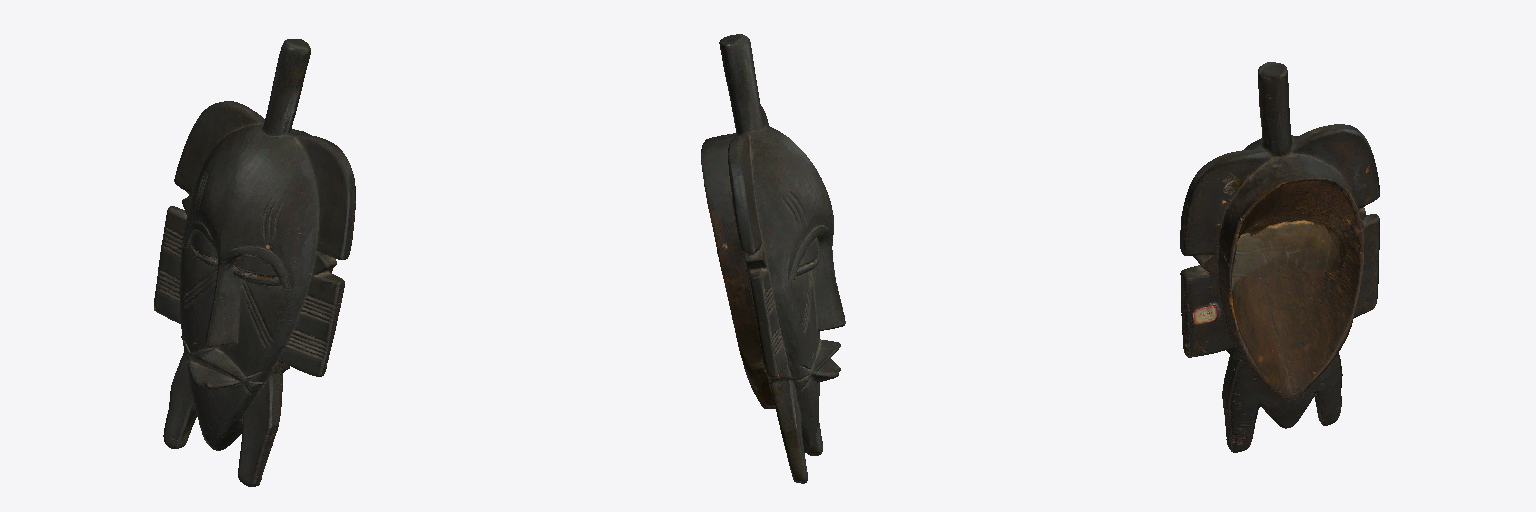
The picture shows the model from 3 angles: view 1: azimuth 30°, elevation 25°; view 2: azimuth 150°, elevation 25°; view 3: azimuth 270°, elevation 25°; orthographic projection.
Size of the model in its own units: 134 by 405 by 177.
Materials: 2 (1 with a texture image).